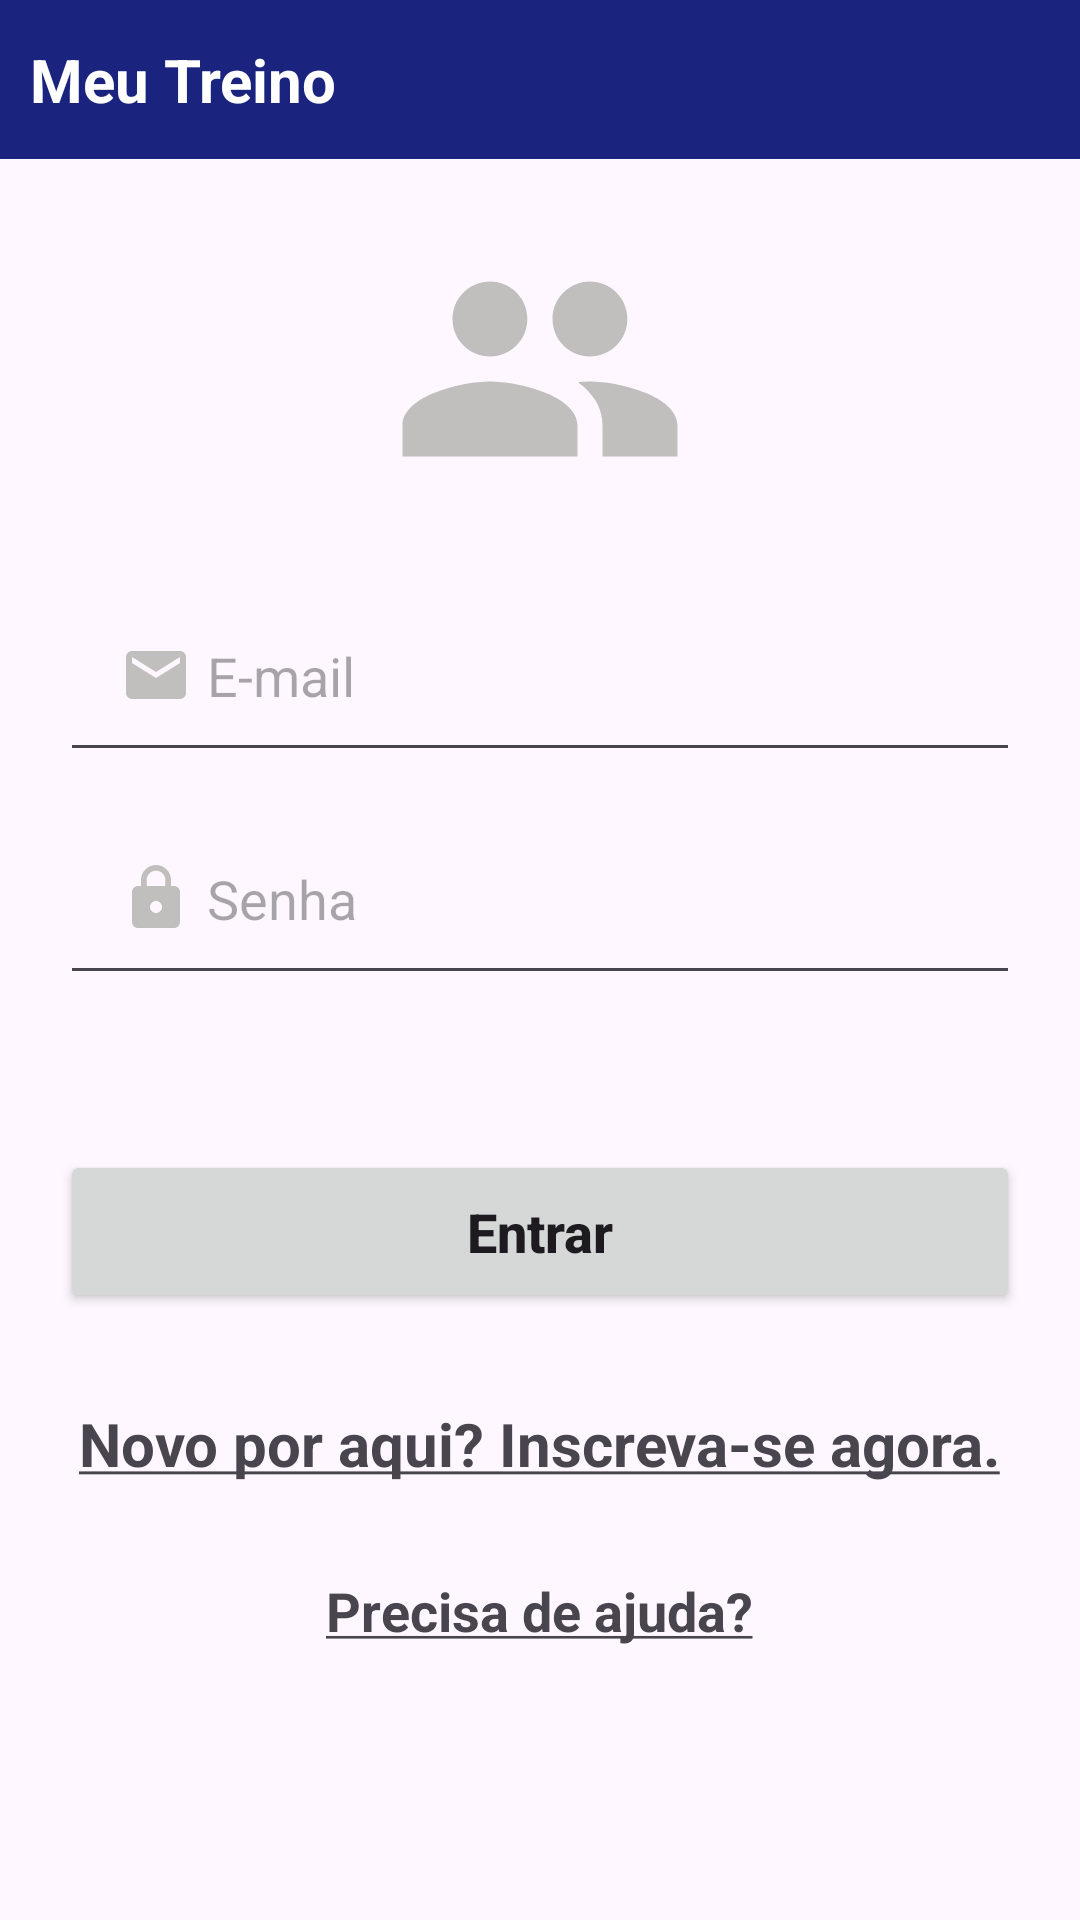

Named icons in this screenshot (1080w x 1920h) and their centers, point (x, y):
pessoa cinza: point (540, 369)
